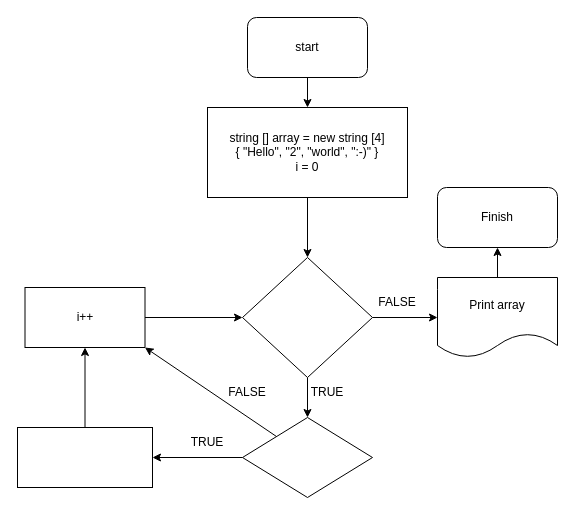
Image size: 575x515. Some labels were removed from this diagram. The shapes that lost their labels are listed below. From the top down, each one's box as (x1, y1, x2, y2) in pixels, then its label:
(242, 256, 372, 378): i < array.Length
(16, 426, 152, 488): array[i] = string.Empty
(242, 416, 372, 498): array [i].Length > 3
